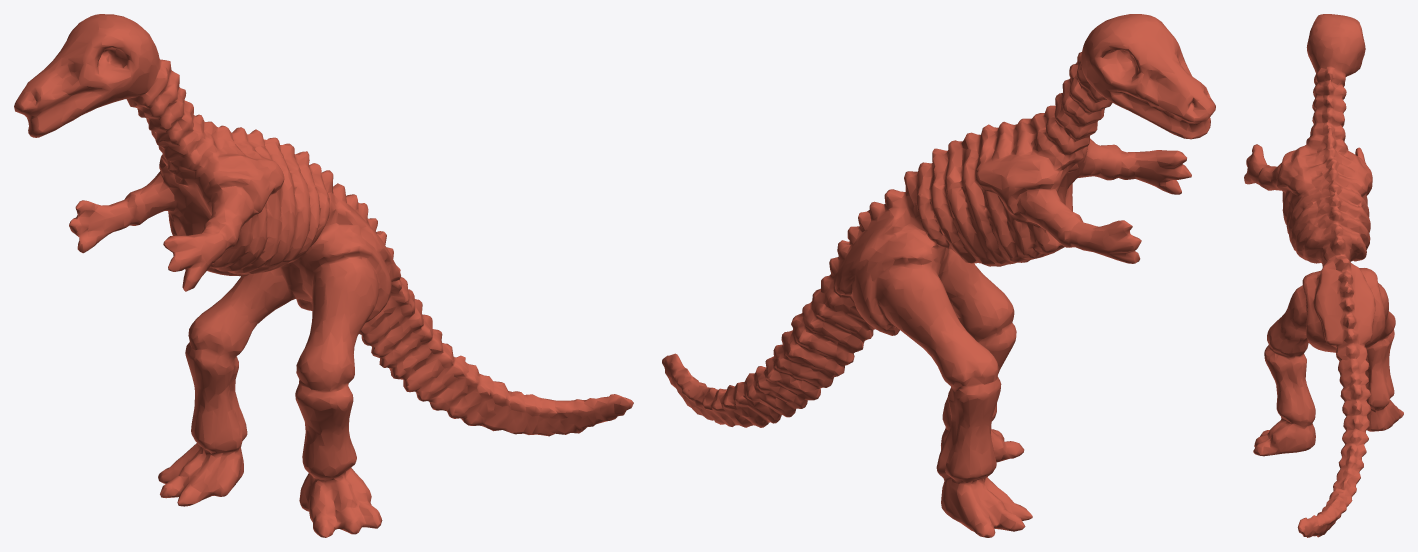
The model's file is dinosaurlow.obj.
The picture shows the model from 3 angles, left to right: view 1: azimuth 30°, elevation 25°; view 2: azimuth 150°, elevation 25°; view 3: azimuth 270°, elevation 25°; orthographic projection. The views are drawn at different scales.
Visible parts, largest first — view 1: dinosaurlow4:Mesh; view 2: dinosaurlow4:Mesh; view 3: dinosaurlow4:Mesh.
Part boxes in pixels (box(x1,y1,x2,y2)): dinosaurlow4:Mesh: box(14, 14, 633, 537); dinosaurlow4:Mesh: box(662, 14, 1215, 537); dinosaurlow4:Mesh: box(1244, 14, 1403, 537).
Size of the model in its own units: 0.9996 by 0.8456 by 0.3348.
